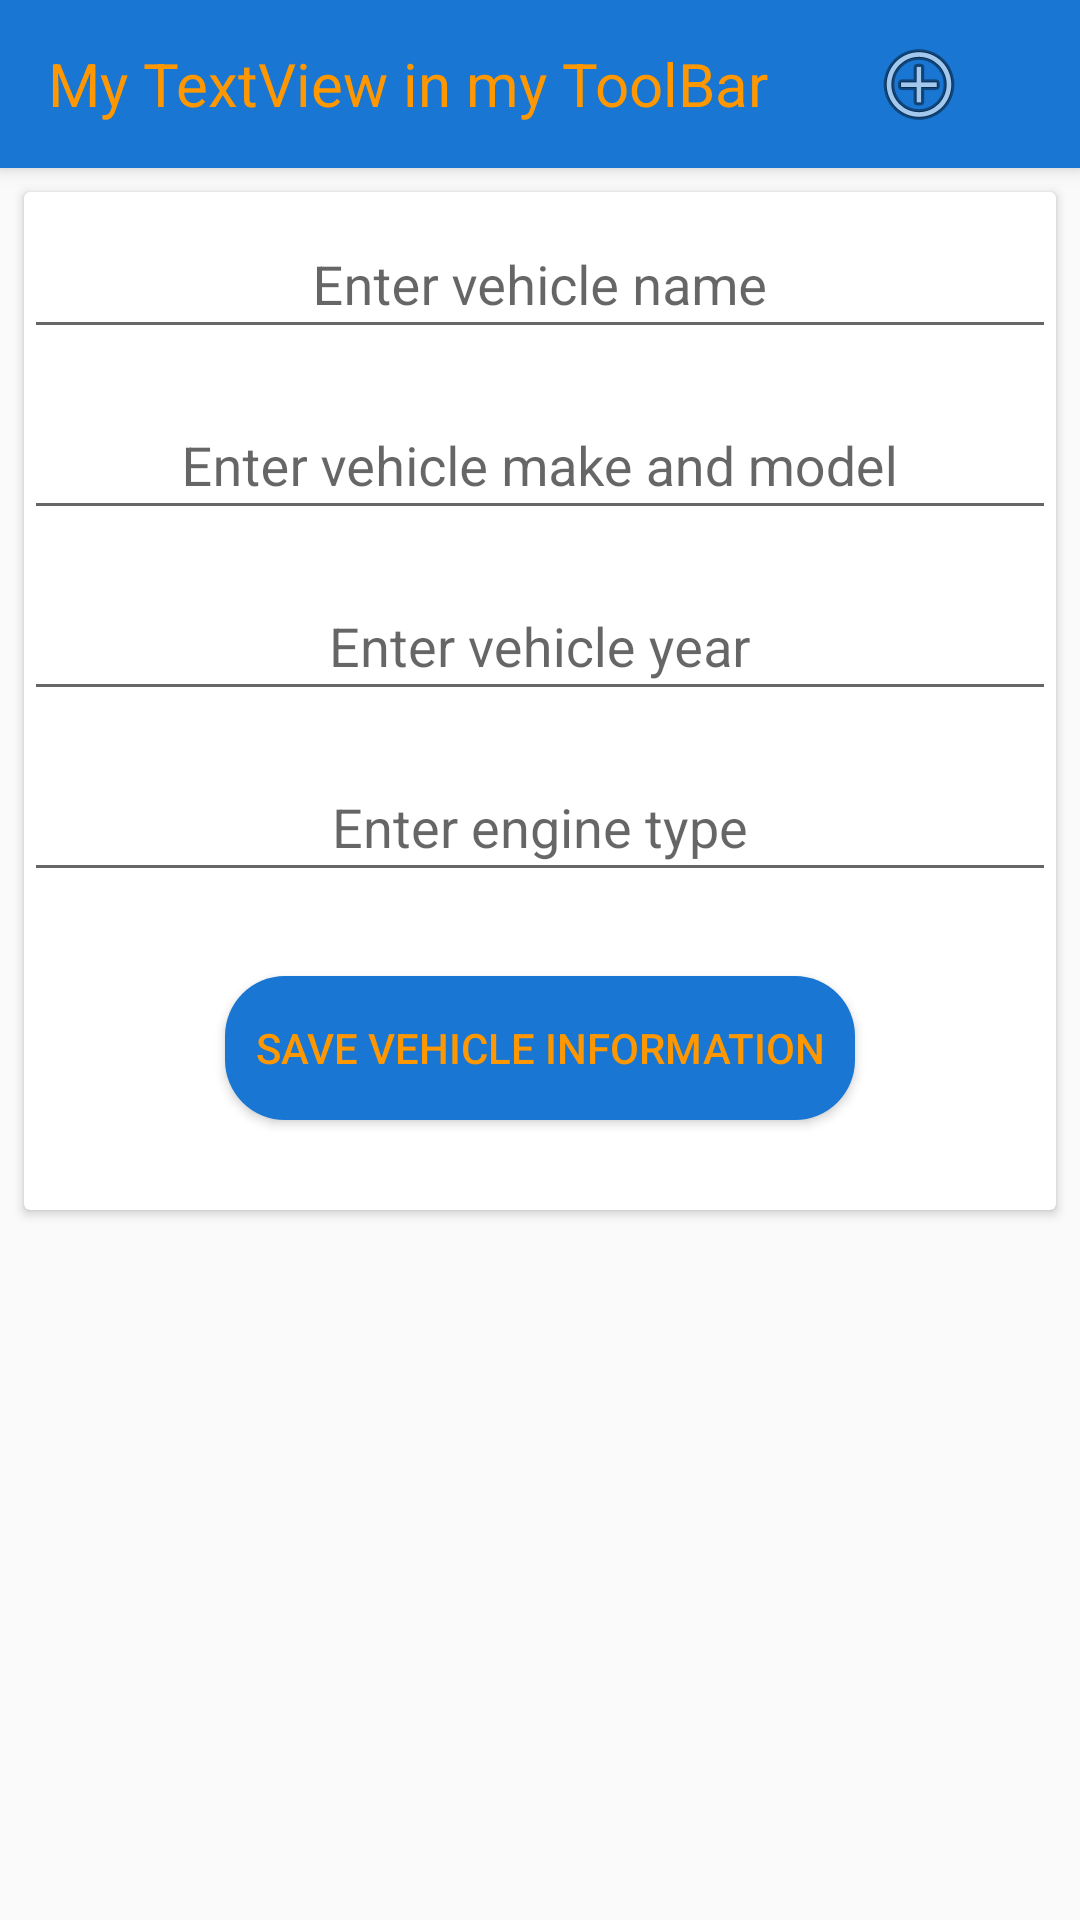

Screen size 1080x1920. Icon name, then its center in pixels as (x=x, y=y):
add: (x=919, y=84)
